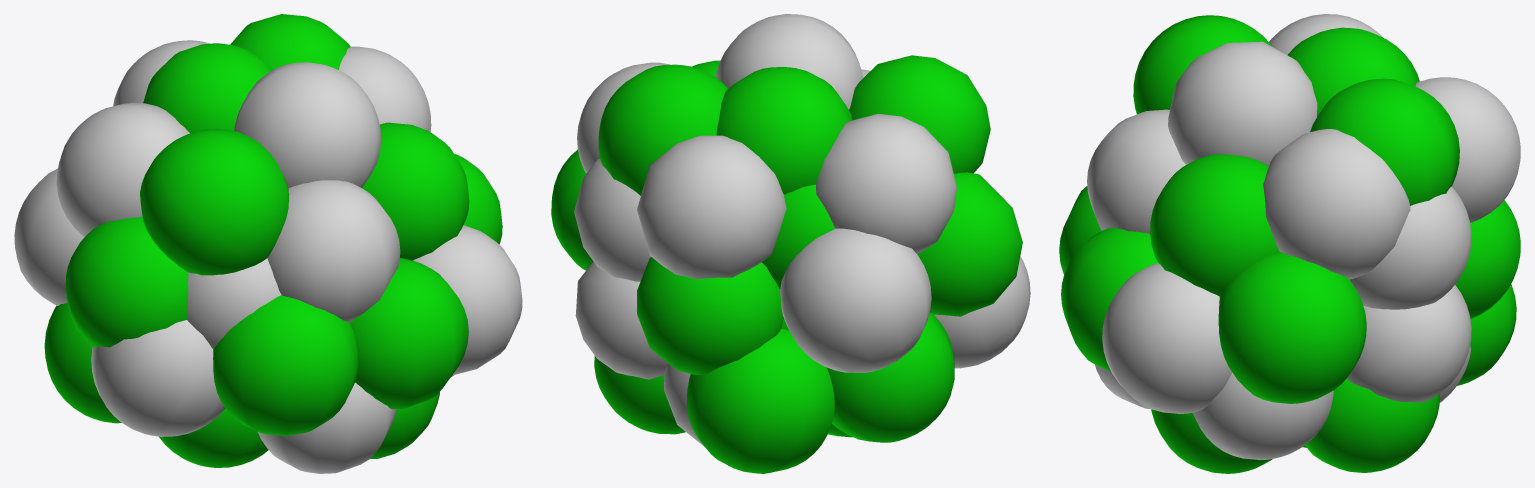
The picture shows the model from 3 angles, left to right: view 1: azimuth 30°, elevation 25°; view 2: azimuth 150°, elevation 25°; view 3: azimuth 270°, elevation 25°; orthographic projection.
Visible parts, largest first — view 1: polySurface149; view 2: polySurface149; view 3: polySurface149.
Boxes of the visible parts, bbox=[...] form: polySurface149: bbox=[14, 14, 522, 473]; polySurface149: bbox=[551, 14, 1030, 473]; polySurface149: bbox=[1059, 14, 1520, 473].
Bounding box in the file's own units: 19.64 × 16.75 × 17.78.
